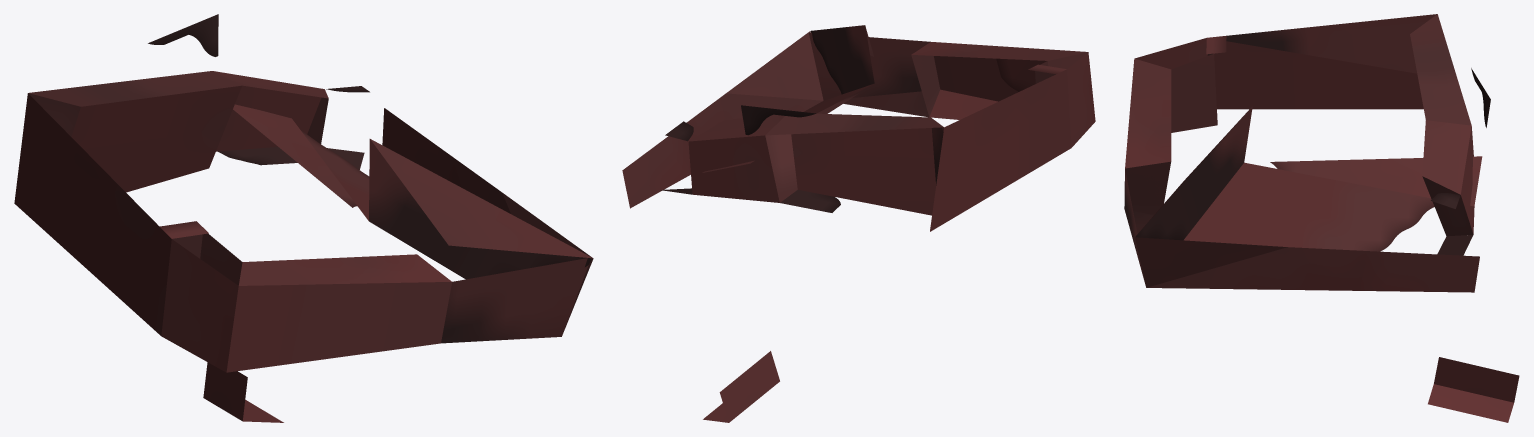
Rendered from berserk_h.obj.
3 renders of one model, left to right at view 1: azimuth 30°, elevation 25°; view 2: azimuth 150°, elevation 25°; view 3: azimuth 270°, elevation 25°, orthographic. The views are drawn at different scales.
Visible parts, largest first — view 1: mesh; view 2: mesh; view 3: mesh.
Boxes of the visible parts, bbox=[...] form: mesh: bbox=[14, 14, 593, 422]; mesh: bbox=[622, 25, 1095, 422]; mesh: bbox=[1124, 14, 1519, 422].
Bounding box in the file's own units: 0.6672 × 0.6468 × 0.7461.
